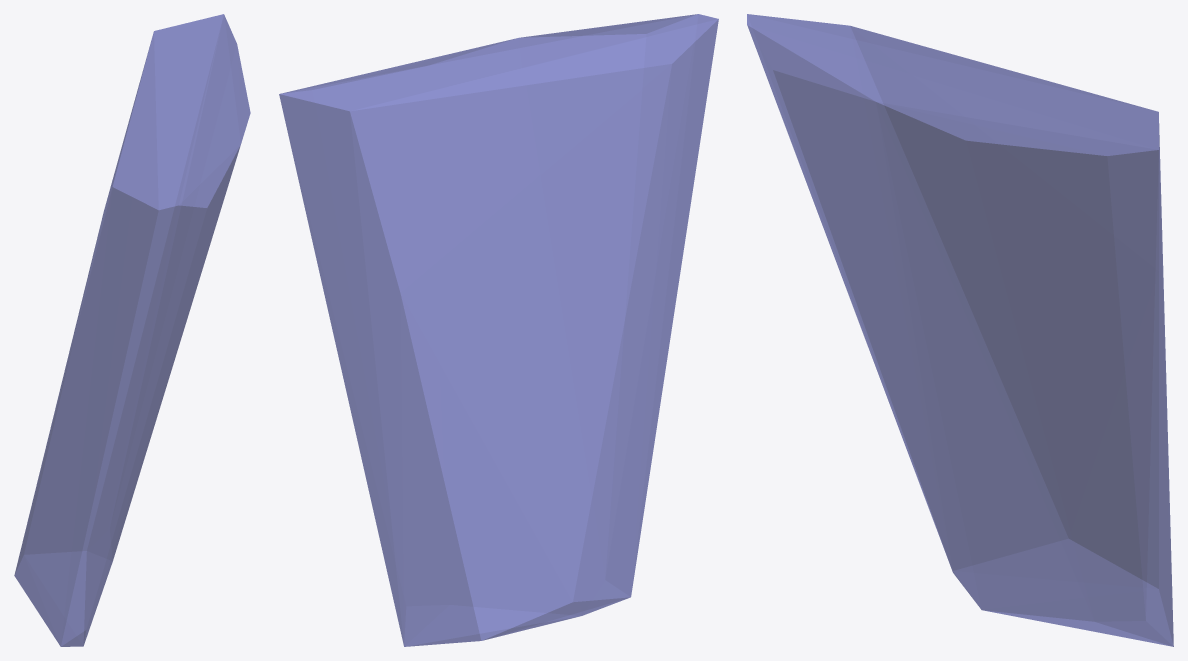
3 views of the same model, side by side, from view 1: azimuth 30°, elevation 25°; view 2: azimuth 150°, elevation 25°; view 3: azimuth 270°, elevation 25° (orthographic). The views are drawn at different scales.
Visible parts, largest first — view 1: Shape_IndexedFaceSet.028_Shape_IndexedFaceSet.9549; view 2: Shape_IndexedFaceSet.028_Shape_IndexedFaceSet.9549; view 3: Shape_IndexedFaceSet.028_Shape_IndexedFaceSet.9549.
Boxes of the visible parts, x1,y1,x2,y2 form: Shape_IndexedFaceSet.028_Shape_IndexedFaceSet.9549: (14,14,250,646); Shape_IndexedFaceSet.028_Shape_IndexedFaceSet.9549: (279,14,718,646); Shape_IndexedFaceSet.028_Shape_IndexedFaceSet.9549: (747,14,1173,646).
Bounding box in the file's own units: 0.1684 × 0.3277 × 0.2186.
